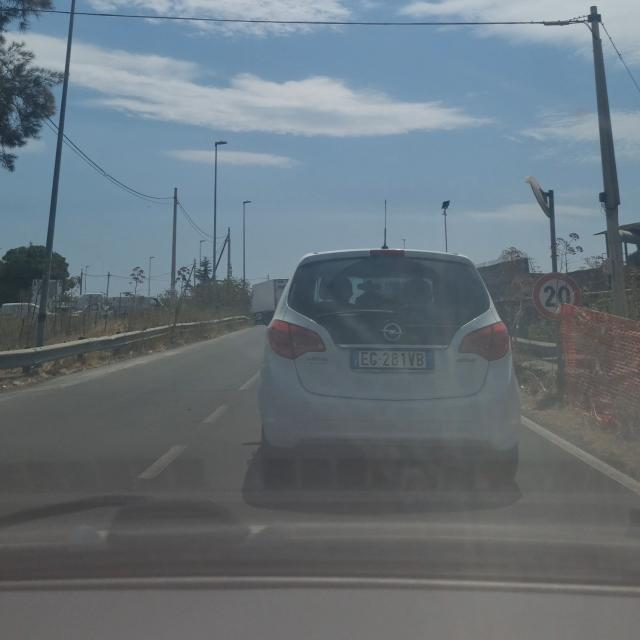forb_speed_over_20: (535, 272, 578, 323)
